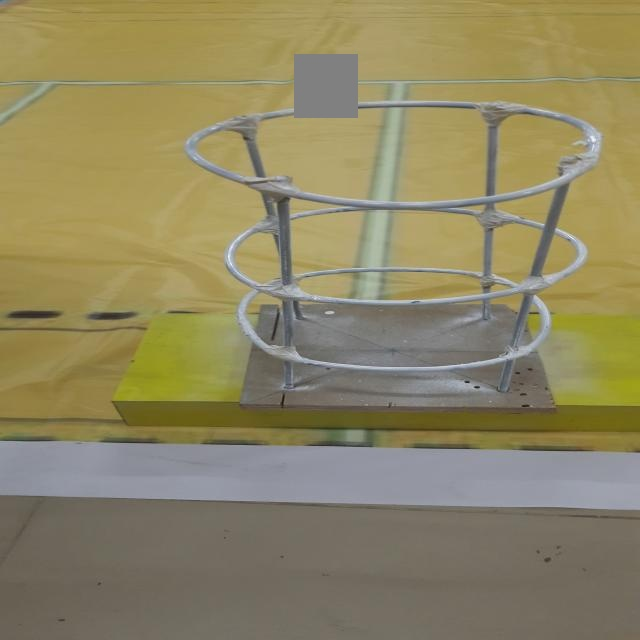silo: (159, 91, 605, 439)
